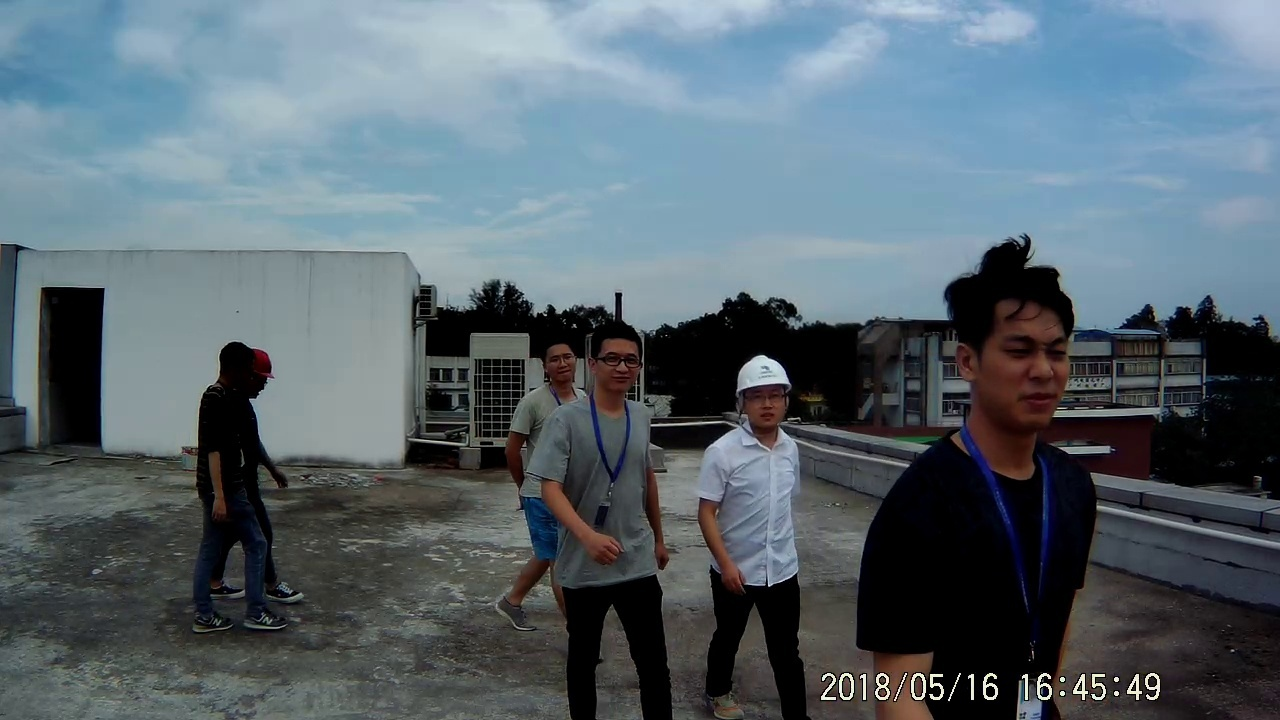none: (939, 246, 1083, 439), (583, 321, 648, 402), (536, 334, 582, 390), (214, 337, 254, 391)
red: (242, 344, 274, 398)
white: (730, 349, 795, 437)
